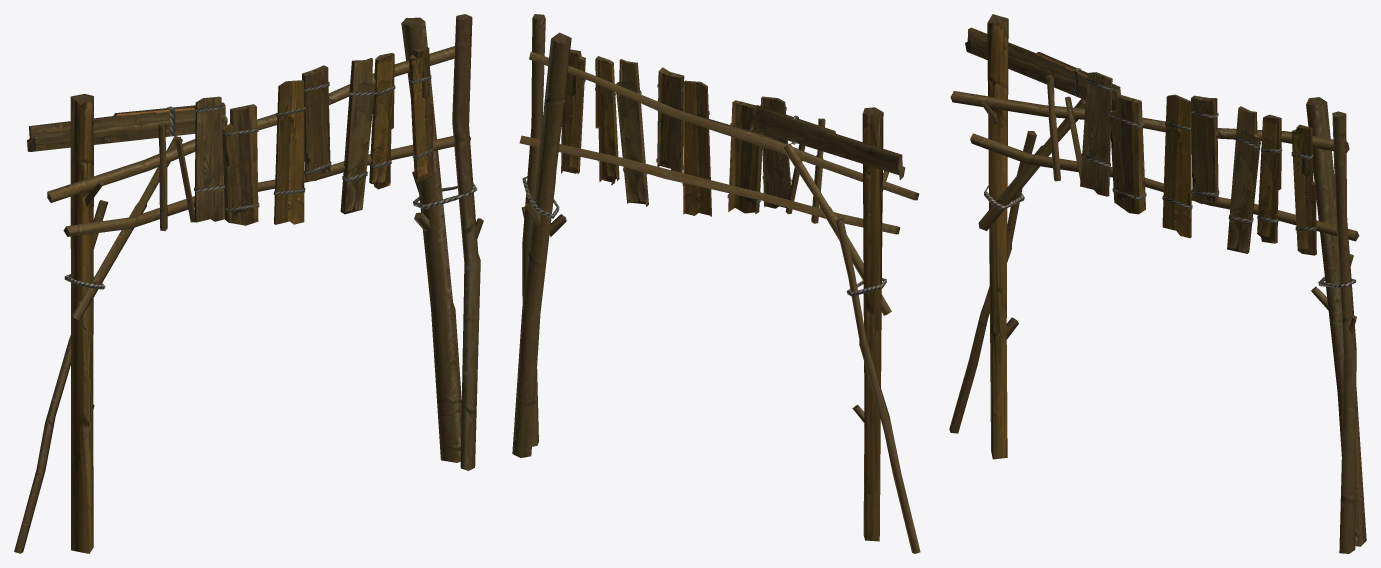
The model's file is 6001_Item_daolu_12.FBX.
The picture shows the model from 3 angles, left to right: view 1: azimuth 30°, elevation 25°; view 2: azimuth 150°, elevation 25°; view 3: azimuth 330°, elevation 25°; orthographic projection. The views are drawn at different scales.
Visible parts, largest first — view 1: 6001_Item_daolu_12; view 2: 6001_Item_daolu_12; view 3: 6001_Item_daolu_12.
Part boxes in pixels (left/top/right/bottom): 6001_Item_daolu_12: left=14, top=14, right=483, bottom=553; 6001_Item_daolu_12: left=512, top=14, right=920, bottom=553; 6001_Item_daolu_12: left=949, top=14, right=1366, bottom=553.
Bounding box in the file's own units: 572 × 81.33 × 555.
1 material, 1 textured.
